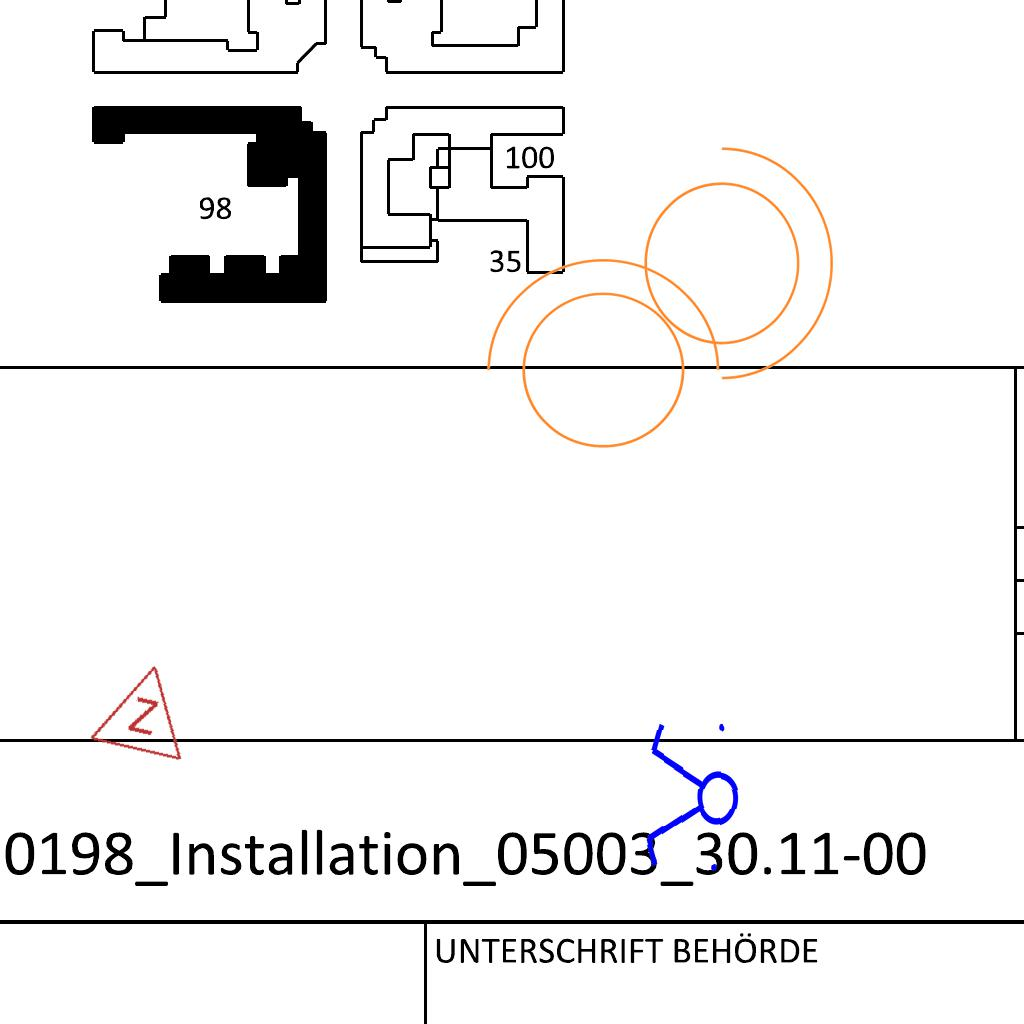Scheinwerfer_fuer_Alarmbeleuchtung: (465, 248, 729, 473), (619, 125, 844, 389)
Serienschalter: (639, 711, 745, 885)
Zimmersignalleuchte: (85, 648, 203, 768)
